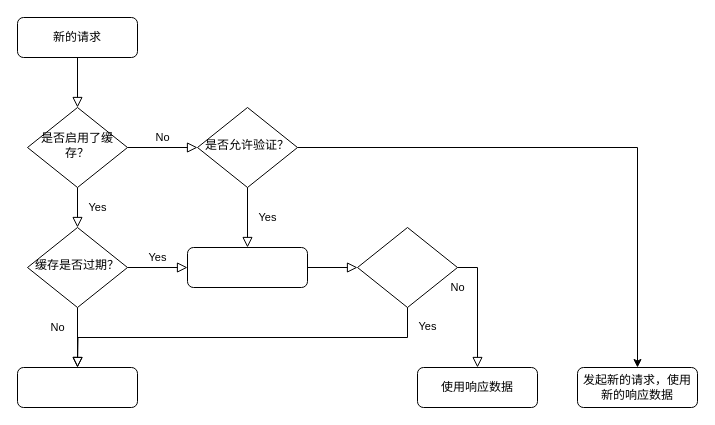
This 715x425 diagram has some shape labels left out. The shapes that lost their labels are listed below. From the top down, each one's centre as x and y in pixels, then its label:
point 247,267: 验证缓存
point 407,267: 缓存是否有效？
point 77,387: 使用缓存数据
